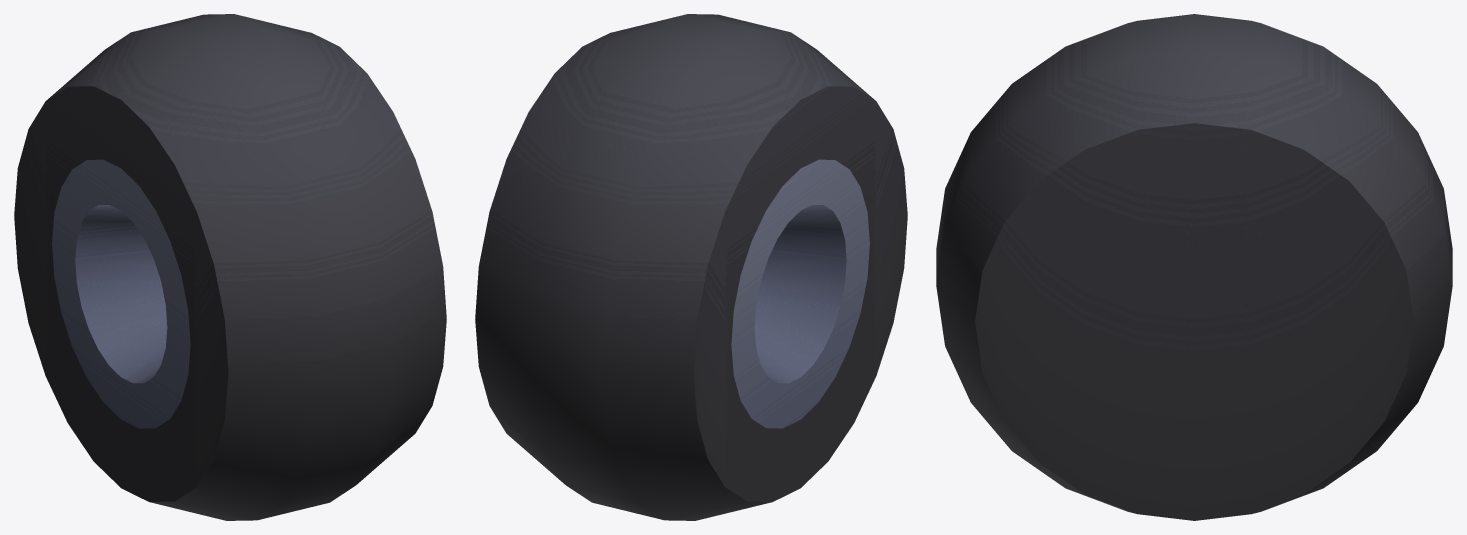
Rendered from llanta_der.glb.
The picture shows the model from 3 angles, left to right: view 1: azimuth 30°, elevation 25°; view 2: azimuth 150°, elevation 25°; view 3: azimuth 270°, elevation 25°; orthographic projection. The views are drawn at different scales.
Visible parts, largest first — view 1: wheel-front-right; view 2: wheel-front-right; view 3: wheel-front-right.
Boxes of the visible parts, box(x1,y1,x2,y2) form: wheel-front-right: box(14, 14, 446, 520); wheel-front-right: box(475, 14, 907, 520); wheel-front-right: box(936, 14, 1452, 520).
Bounding box in the file's own units: 0.3 × 0.6 × 0.6.
1 material, 1 textured.
